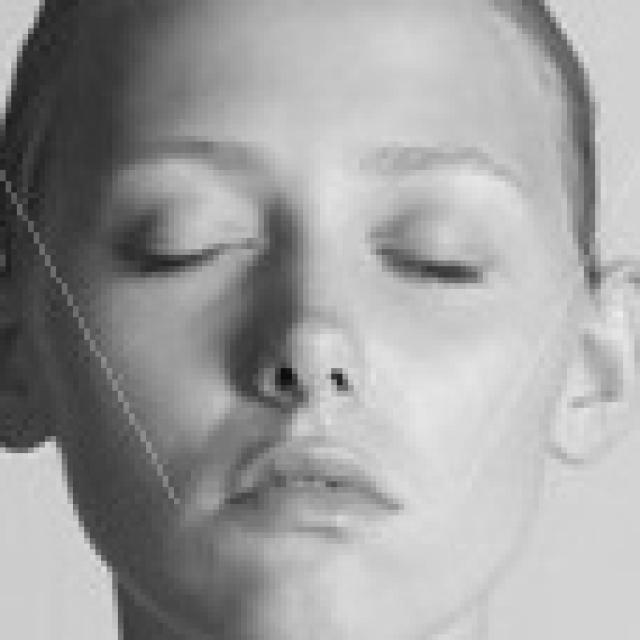real: (96, 0, 539, 565), (108, 192, 506, 304)
